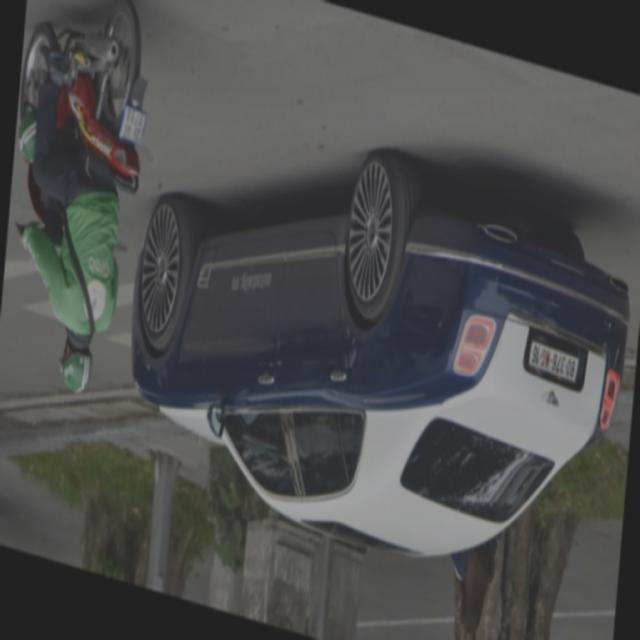bien_ngoai_giao: (526, 339, 578, 386)
bien_trang: (120, 106, 144, 148)
